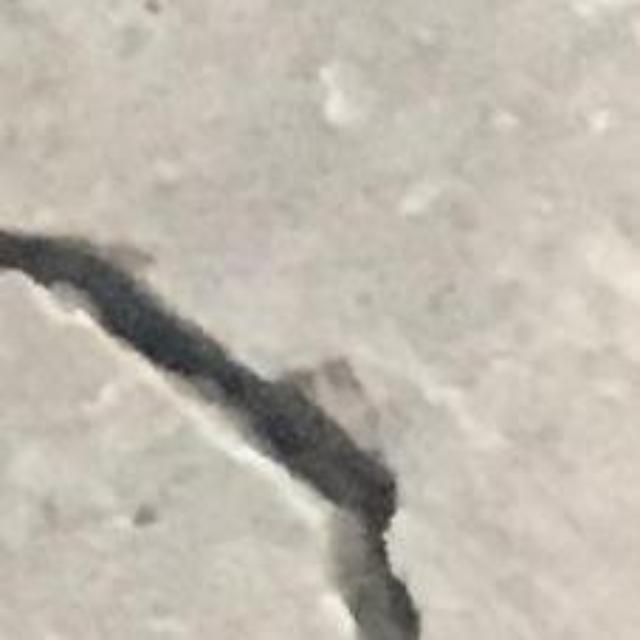crack: (0, 229, 422, 639)
